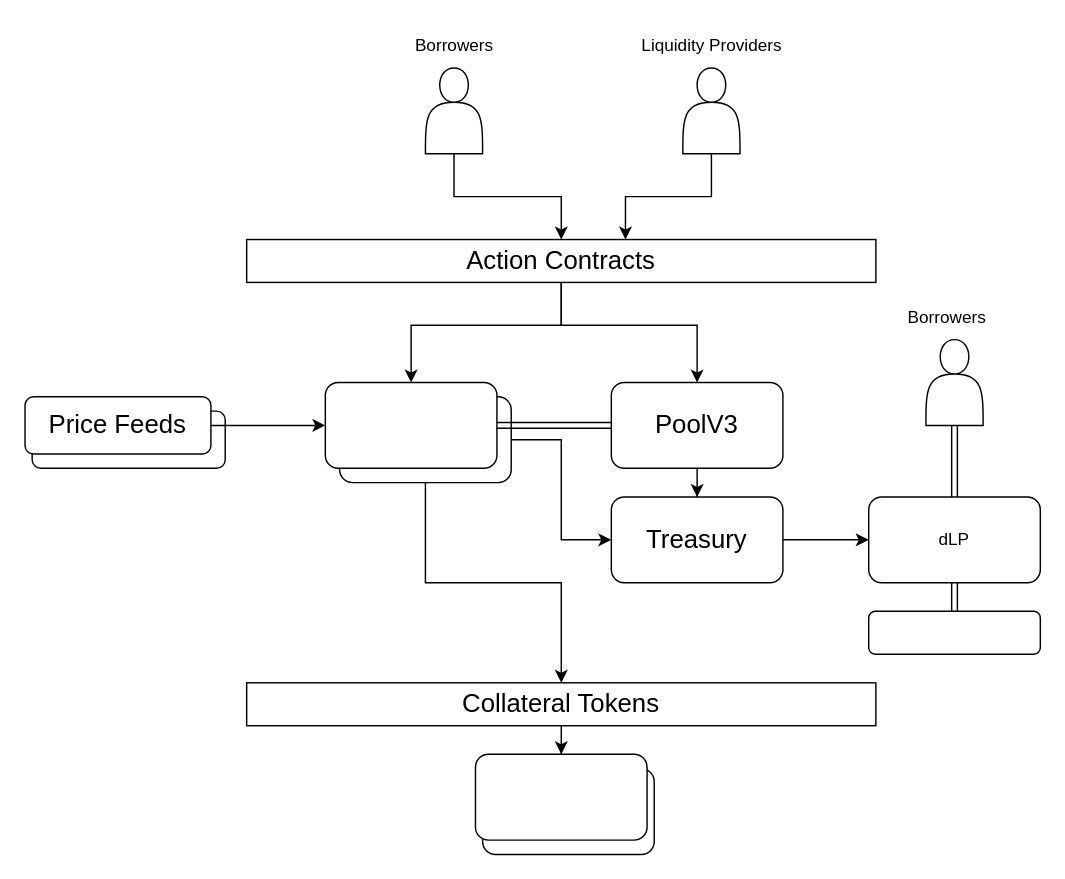
Image size: 1065x879. Some labels were removed from this diagram. Each missing label, with the centre of its shape:
CDPVault: the point at 410,424
Loop Token: the point at 953,632
Pendle: the point at 560,796
